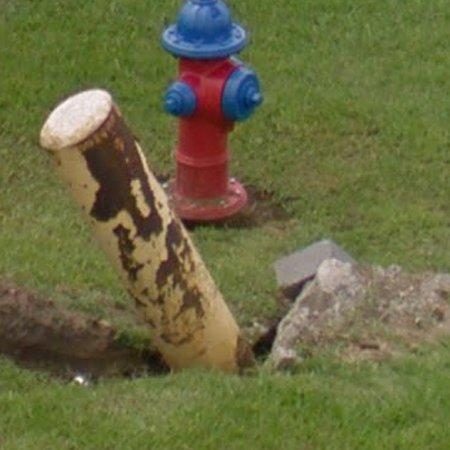a fire hydrant: (161, 0, 263, 221)
